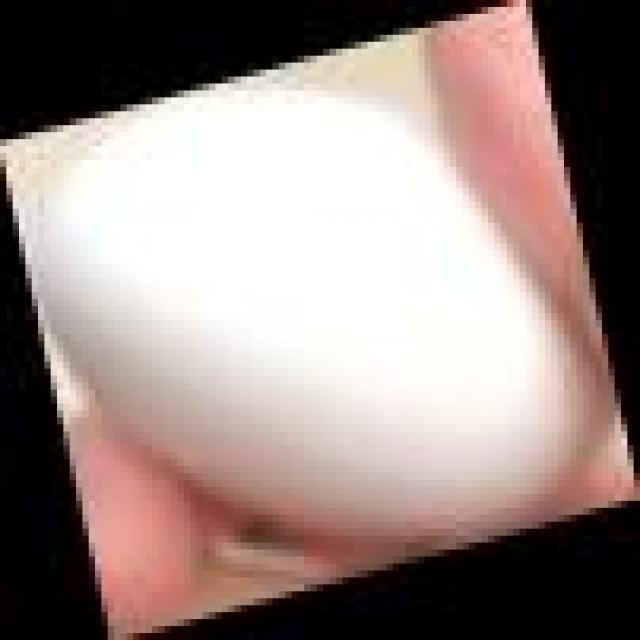Egg: (23, 64, 618, 572)
